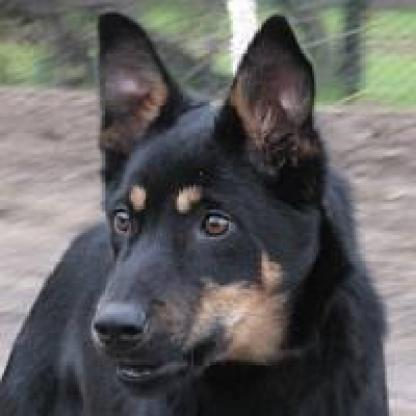kelpie: (0, 6, 387, 412)
